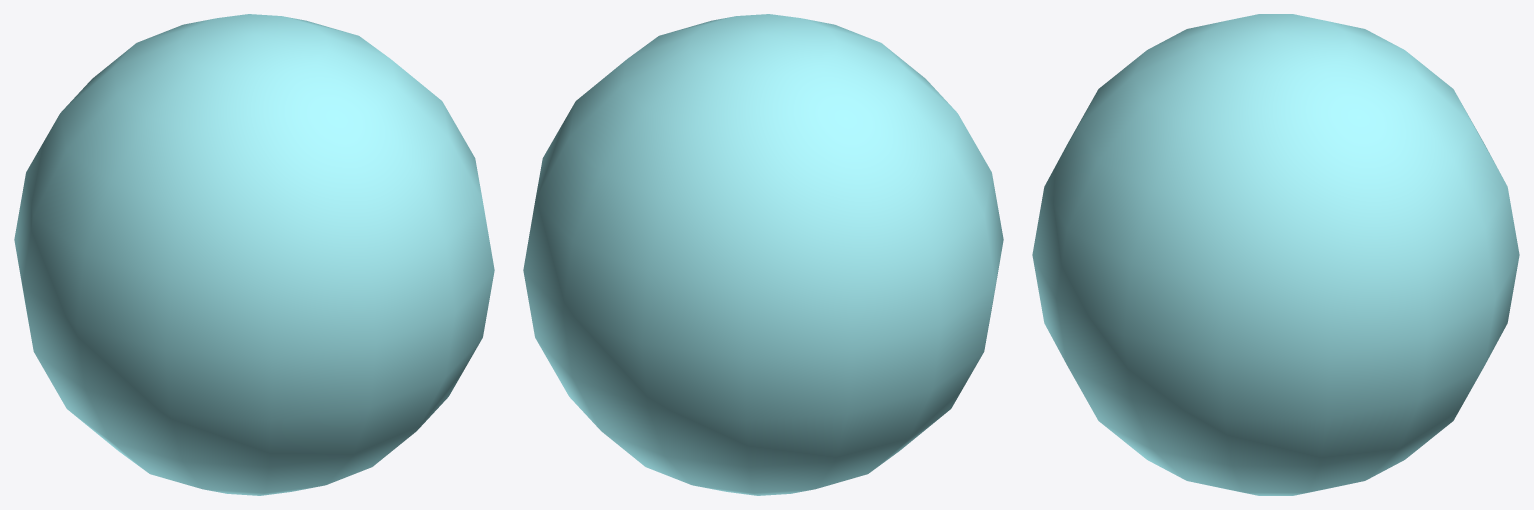
File: PlasmaBombMid.fbx
3 renders of one model, left to right at view 1: azimuth 30°, elevation 25°; view 2: azimuth 150°, elevation 25°; view 3: azimuth 270°, elevation 25°, orthographic.
Parts seen in each view (by area): view 1: plasma_mid; view 2: plasma_mid; view 3: plasma_mid.
Part boxes in pixels (x1=…): plasma_mid: x1=14, y1=14, x2=494, y2=495; plasma_mid: x1=523, y1=14, x2=1003, y2=495; plasma_mid: x1=1032, y1=14, x2=1519, y2=495.
Size of the model in its own units: 0.273 by 0.28 by 0.28.
